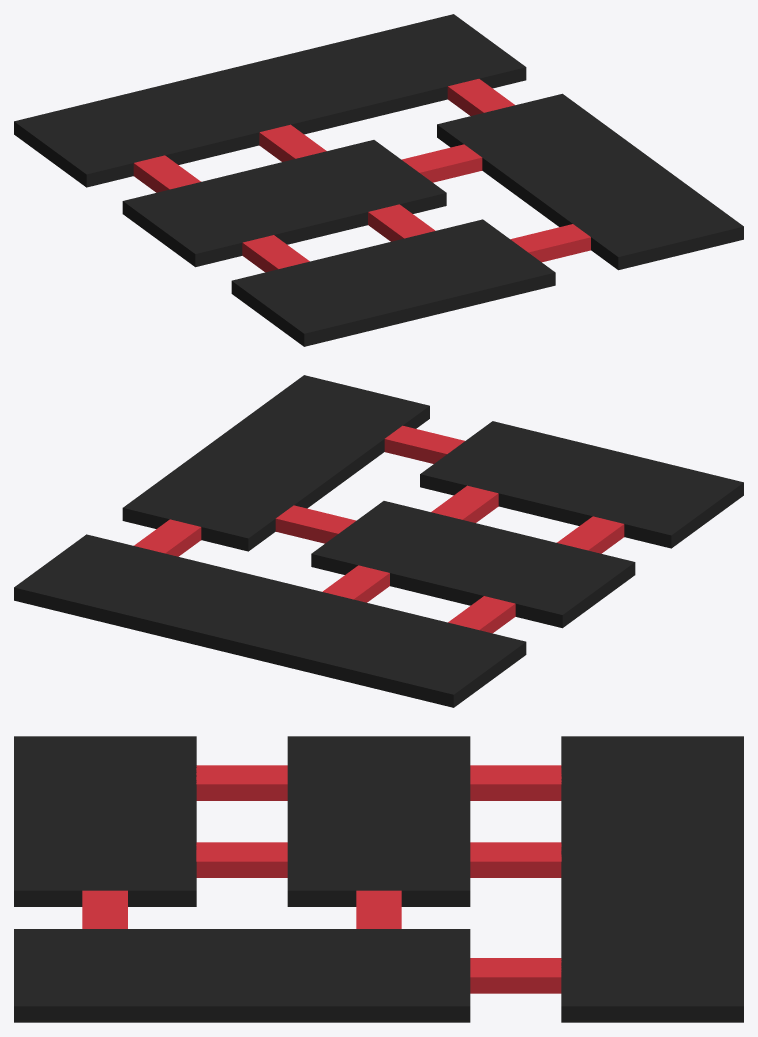
File: bridge.glb
3 renders of one model, top to bottom at view 1: azimuth 30°, elevation 25°; view 2: azimuth 150°, elevation 25°; view 3: azimuth 270°, elevation 25°, orthographic. The views are drawn at different scales.
Parts seen in each view (by area): view 1: Cube.001, Cube, Cube.002, Cube.004, Cube.009, Cube.003, Cube.007, Cube.006, Cube.005, Cube.010, Cube.008; view 2: Cube.001, Cube, Cube.004, Cube.002, Cube.003, Cube.009, Cube.005, Cube.007, Cube.006, Cube.008, Cube.010; view 3: Cube.001, Cube, Cube.004, Cube.002, Cube.005, Cube.006, Cube.007, Cube.008, Cube.010, Cube.003, Cube.009.
Boxes of the visible parts, x1,y1,x2,y2 form: Cube.001: (14,14,526,187); Cube: (437,93,743,270); Cube.002: (231,219,555,346); Cube.004: (122,140,446,267); Cube.009: (402,144,482,182); Cube.003: (510,224,590,262); Cube.007: (447,79,514,115); Cube.006: (133,155,200,192); Cube.005: (242,235,309,272); Cube.010: (259,124,326,161); Cube.008: (368,204,435,241); Cube.001: (14,534,526,707); Cube: (122,375,429,551); Cube.004: (311,501,635,628); Cube.002: (420,421,743,548); Cube.003: (384,425,464,463); Cube.009: (275,505,355,543); Cube.005: (557,516,624,553); Cube.007: (134,519,201,556); Cube.006: (448,596,515,633); Cube.008: (431,485,498,522); Cube.010: (322,565,389,602); Cube.001: (561,736,743,1022); Cube: (14,929,470,1022); Cube.004: (287,736,470,906); Cube.002: (14,736,196,906); Cube.005: (196,765,287,800); Cube.006: (470,765,561,800); Cube.007: (470,958,561,993); Cube.008: (196,842,287,877); Cube.010: (470,842,561,877); Cube.003: (82,890,127,928); Cube.009: (356,890,401,928).
Bounding box in the file's own units: 14 × 0.4 × 16.
